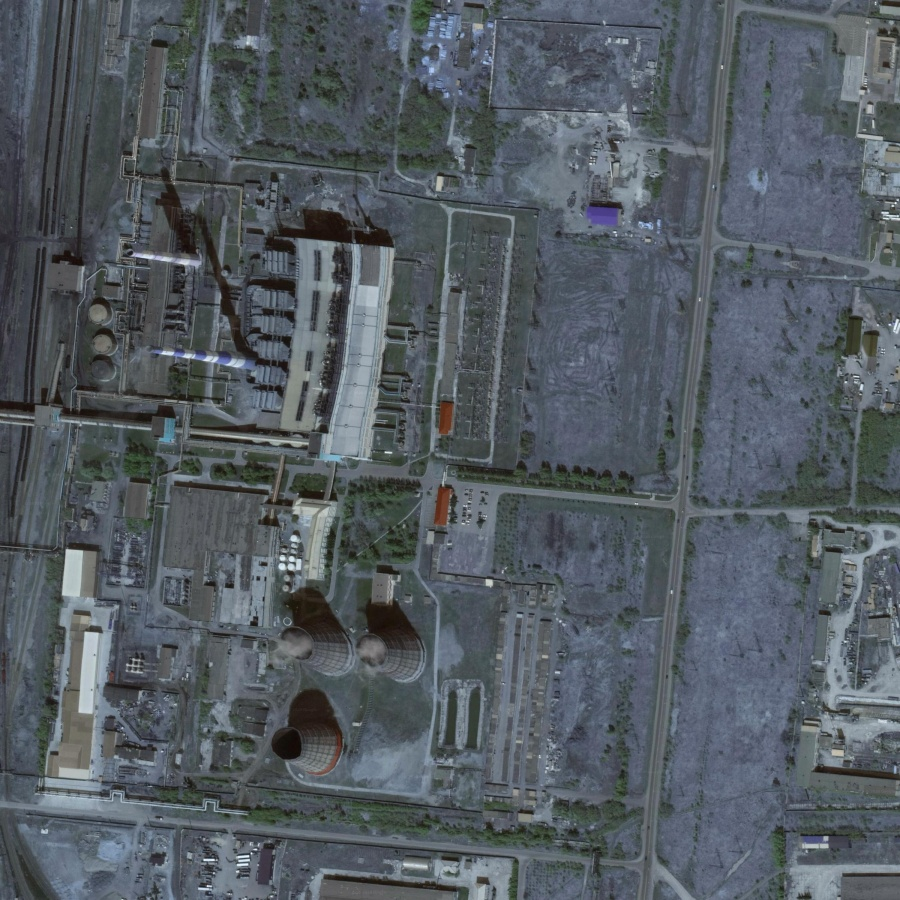PowerPlant: (107, 156, 296, 418), (263, 558, 452, 813)
